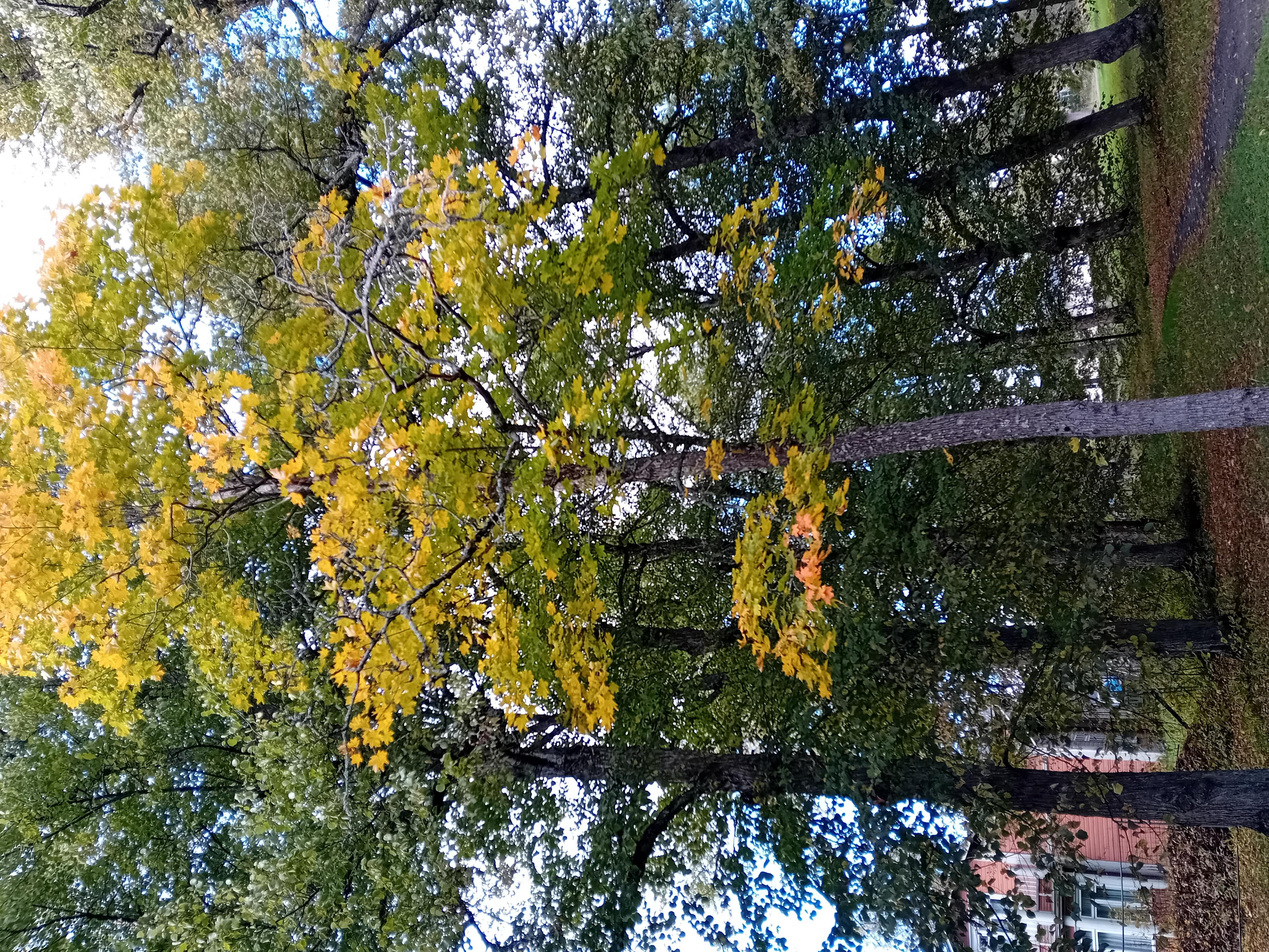Maple: (250, 0, 1091, 952)
